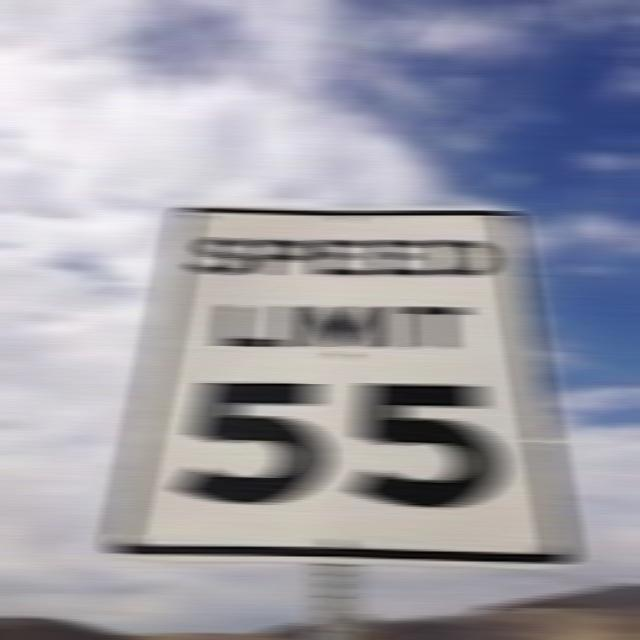speedLimit55: (103, 212, 570, 552)
